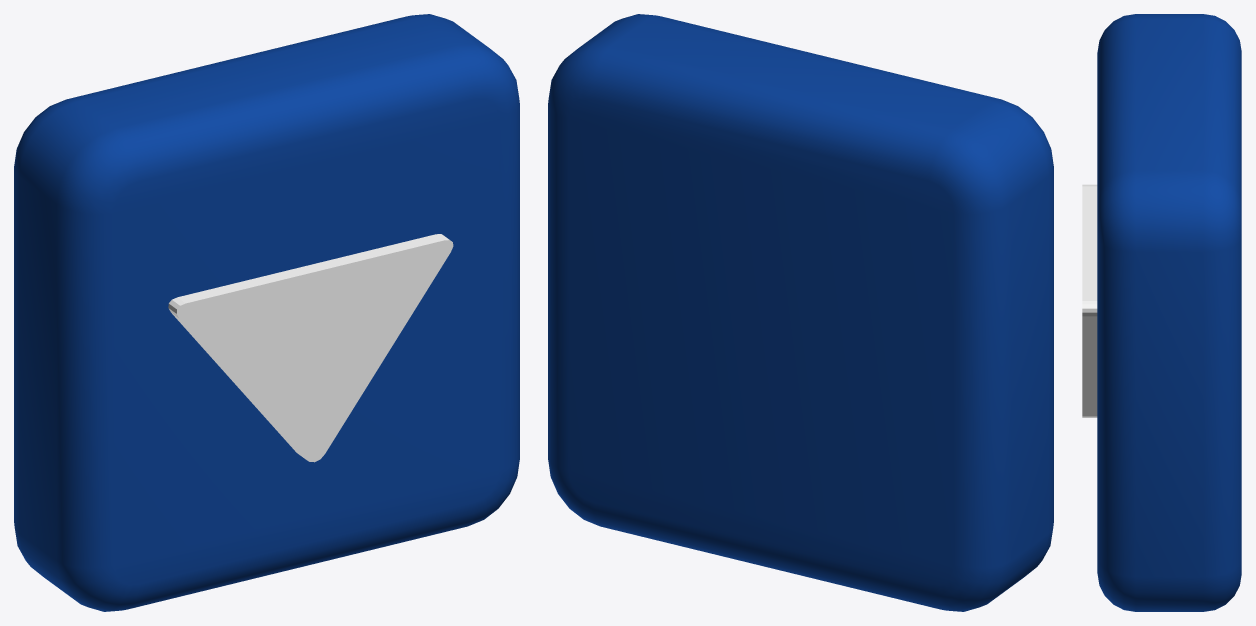
Rendered from downwards_button.gltf.
3 renders of one model, left to right at view 1: azimuth 30°, elevation 25°; view 2: azimuth 150°, elevation 25°; view 3: azimuth 270°, elevation 25°, orthographic. The views are drawn at different scales.
Parts seen in each view (by area): view 1: Cube.6428; view 2: Cube.6428; view 3: Cube.6428.
Boxes of the visible parts, x1=… form: Cube.6428: x1=14, y1=14, x2=519, y2=611; Cube.6428: x1=548, y1=14, x2=1053, y2=611; Cube.6428: x1=1082, y1=14, x2=1241, y2=611.
Size of the model in its own units: 2.2 by 2.2 by 0.73.
Materials: 1 (1 with a texture image).
